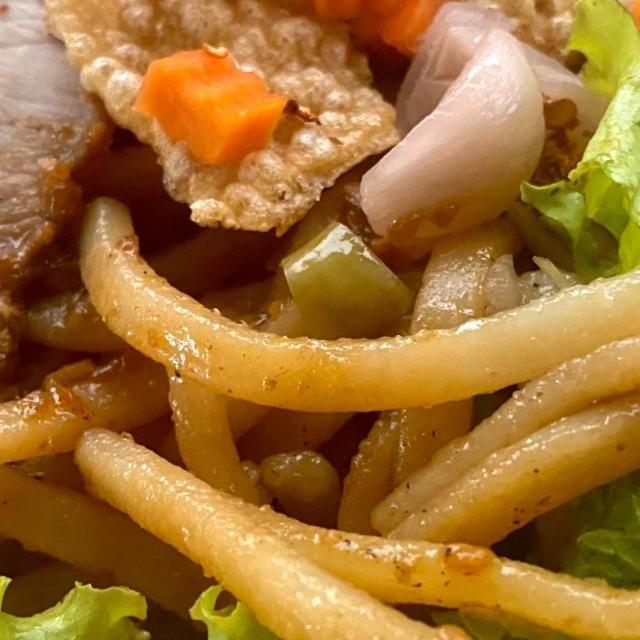banh da: (28, 0, 408, 245), (427, 0, 640, 79)
mi: (0, 179, 640, 640), (0, 320, 186, 640)
thit heo: (0, 0, 174, 419)
